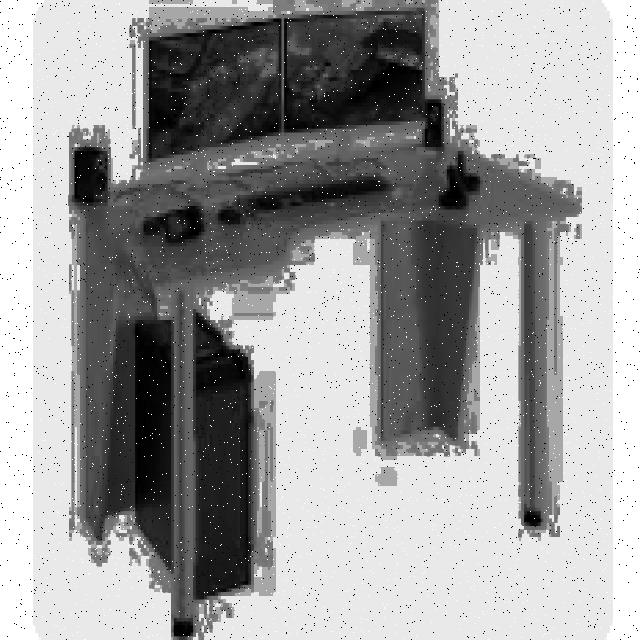table: (66, 136, 577, 633)
